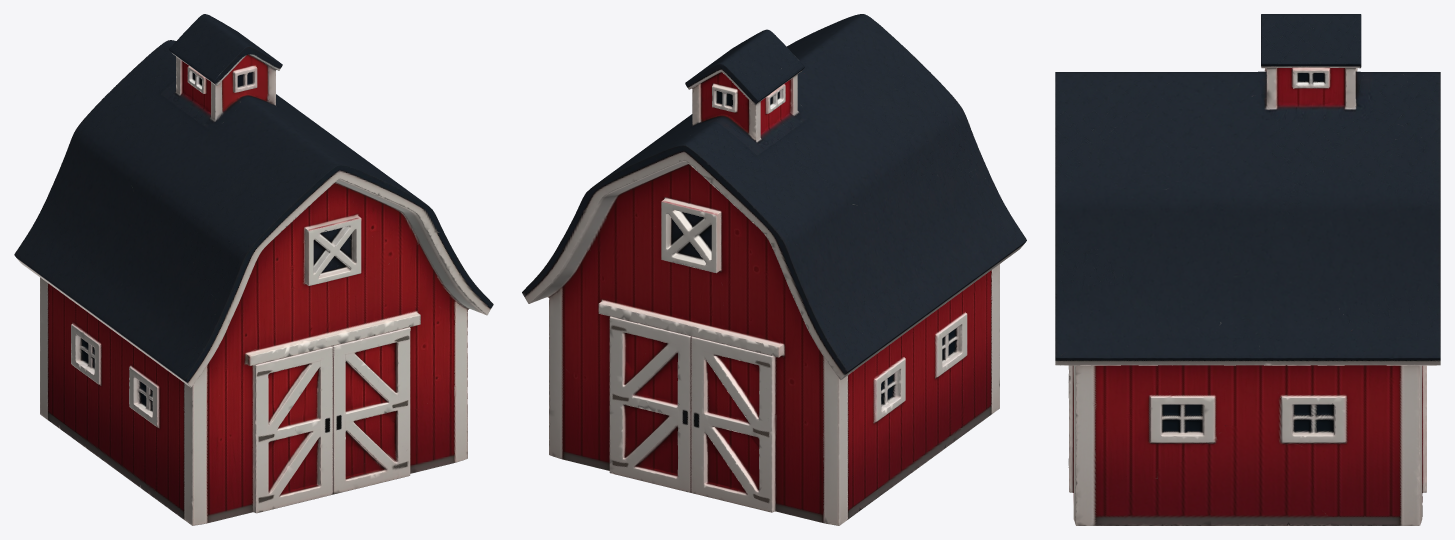
The model's file is Meshy_AI_Red_Barn_Charm_0918024157_texture.glb.
3 views of the same model, side by side, from view 1: azimuth 30°, elevation 25°; view 2: azimuth 150°, elevation 25°; view 3: azimuth 270°, elevation 25° (orthographic). The views are drawn at different scales.
Size of the model in its own units: 1.59 by 1.9 by 1.52.
Materials: 1 (1 with a texture image).
